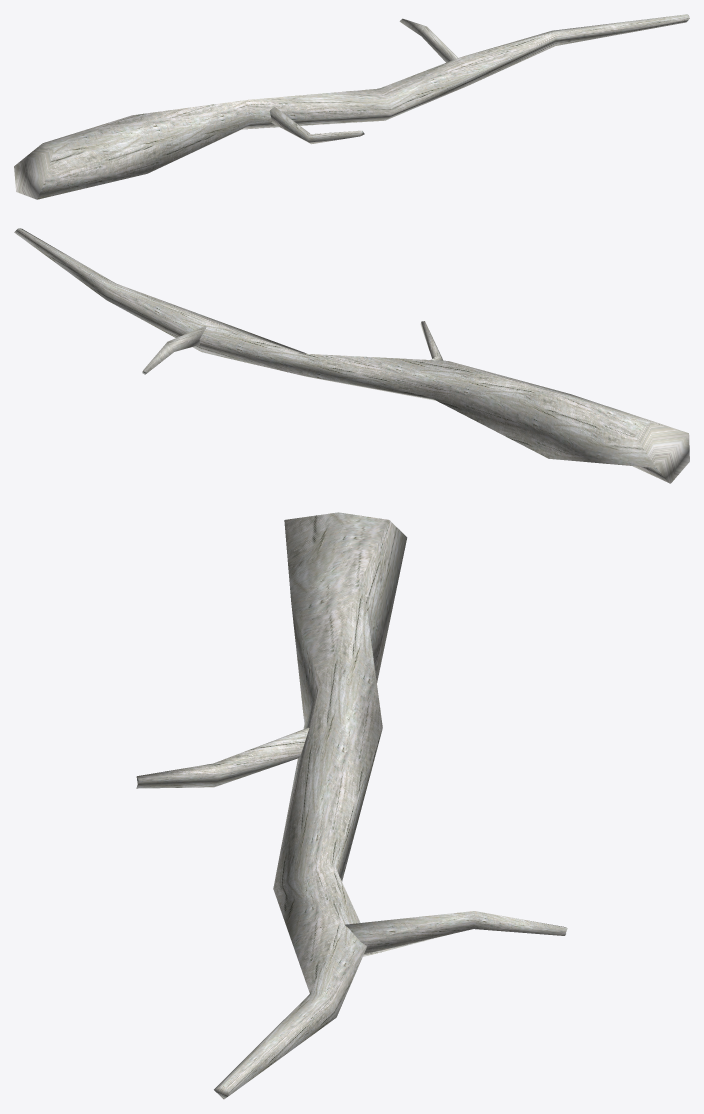
The model's file is shor_driftwood_l1.fbx.
The picture shows the model from 3 angles, top to bottom: view 1: azimuth 30°, elevation 25°; view 2: azimuth 150°, elevation 25°; view 3: azimuth 270°, elevation 25°; orthographic projection. The views are drawn at different scales.
Parts seen in each view (by area): view 1: mesh_node; view 2: mesh_node; view 3: mesh_node.
Part boxes in pixels (bbox=[...]): mesh_node: bbox=[14, 14, 689, 199]; mesh_node: bbox=[14, 228, 689, 483]; mesh_node: bbox=[136, 512, 567, 1099].
Size of the model in its own units: 5.89 by 0.4974 by 1.73.
